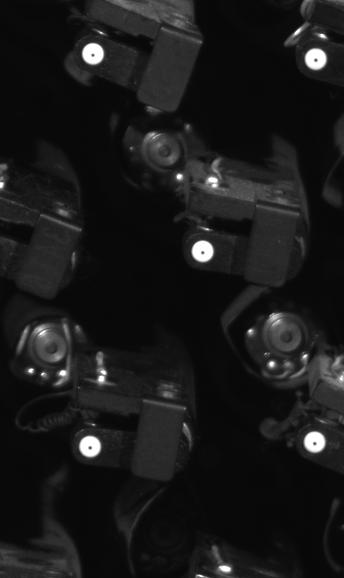fiber: (298, 427, 334, 461), (74, 430, 112, 461), (78, 38, 111, 71), (187, 232, 216, 267), (298, 46, 333, 74)
